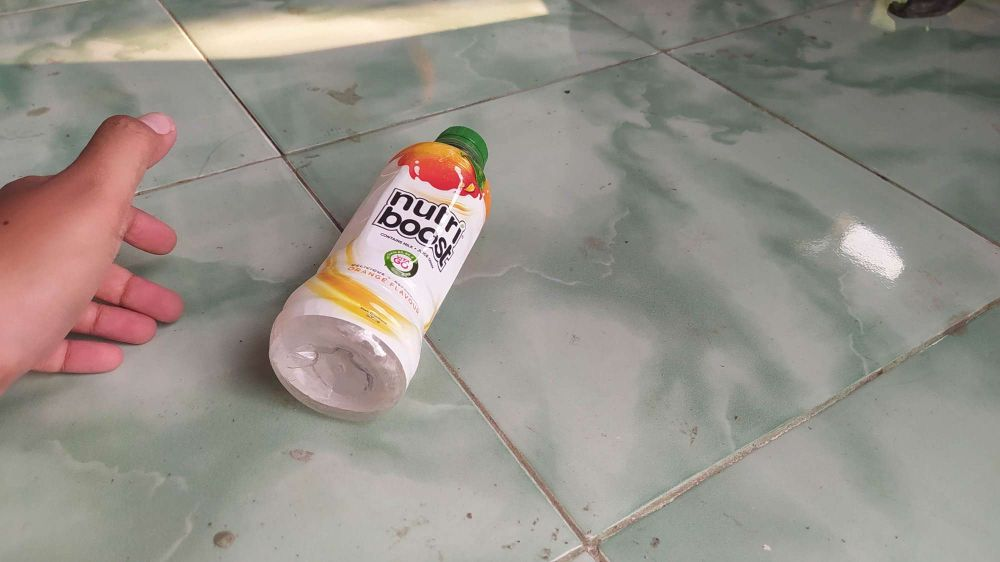botol: (272, 89, 503, 439)
